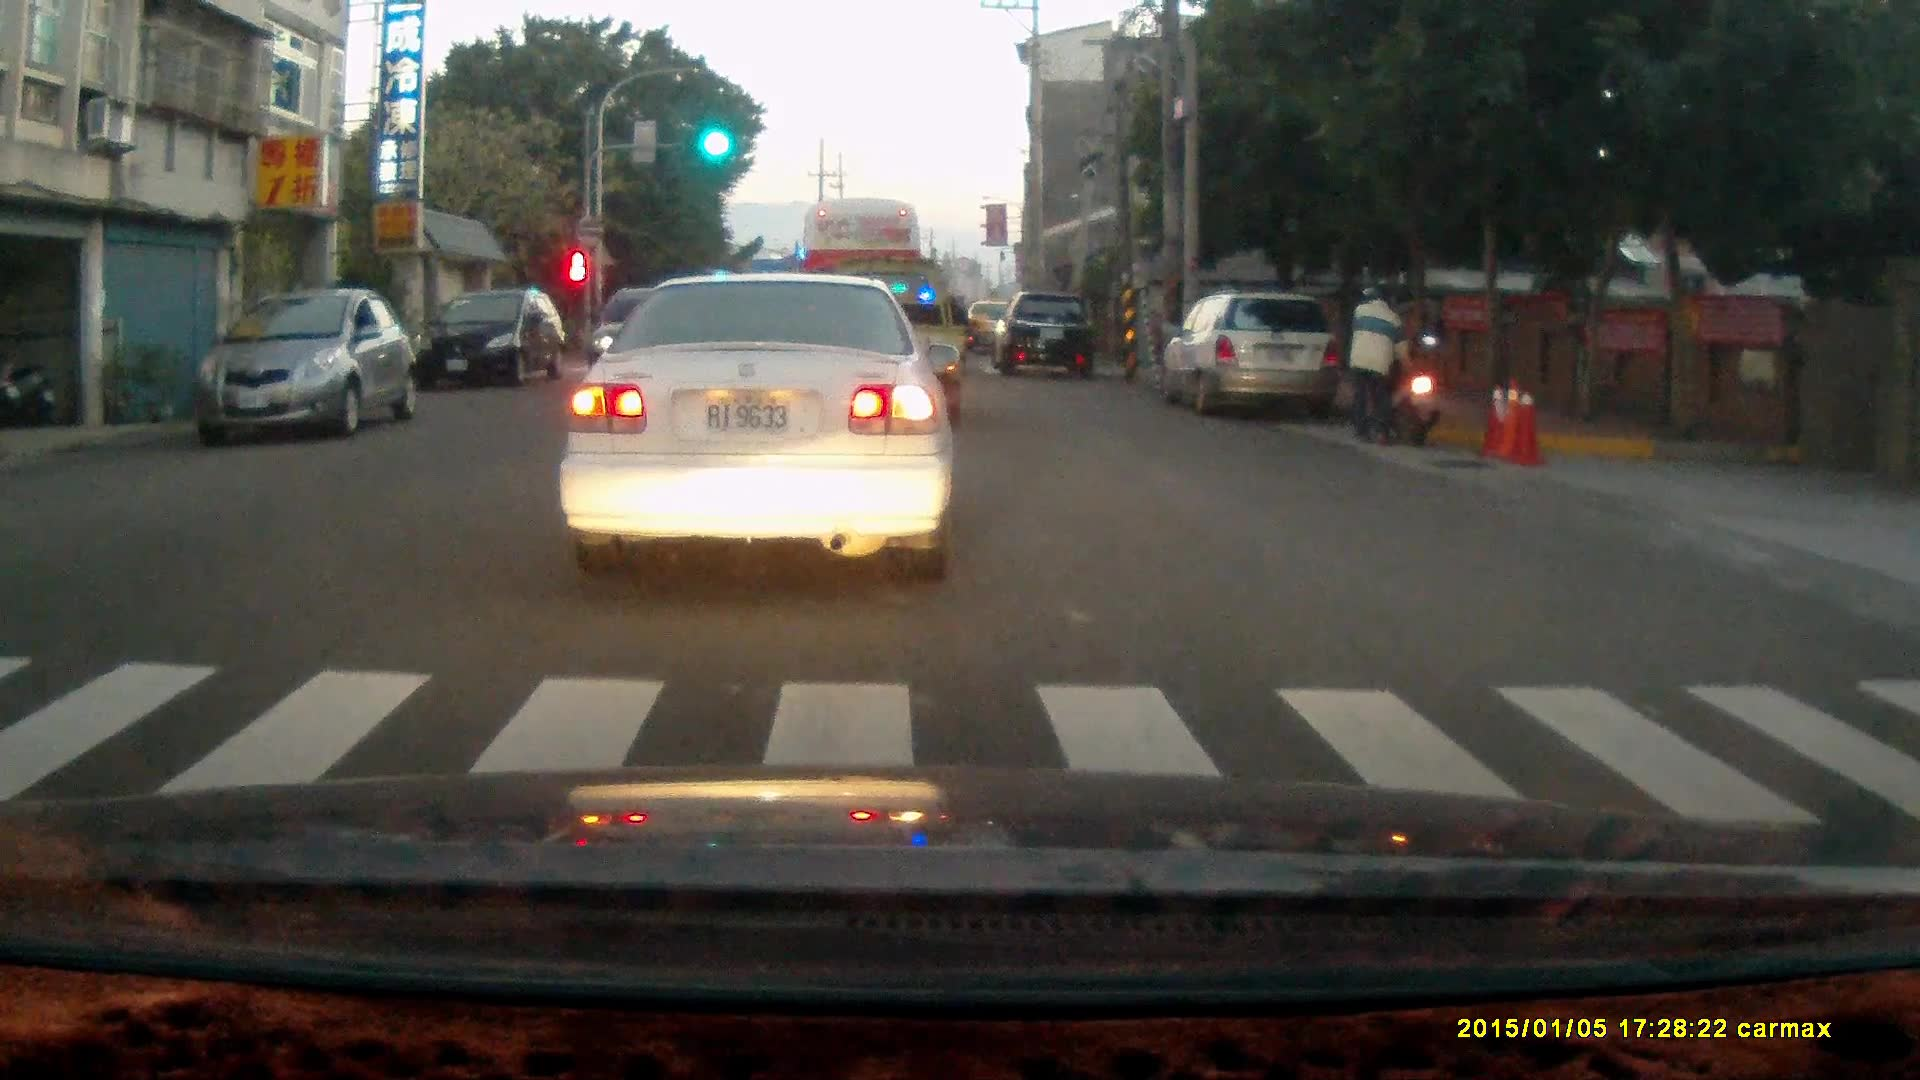pedestrian: (1346, 283, 1413, 444)
vehicle: (560, 273, 953, 581), (199, 286, 419, 441), (800, 194, 927, 383), (1167, 289, 1343, 410), (418, 288, 568, 396), (1001, 291, 1102, 381)
